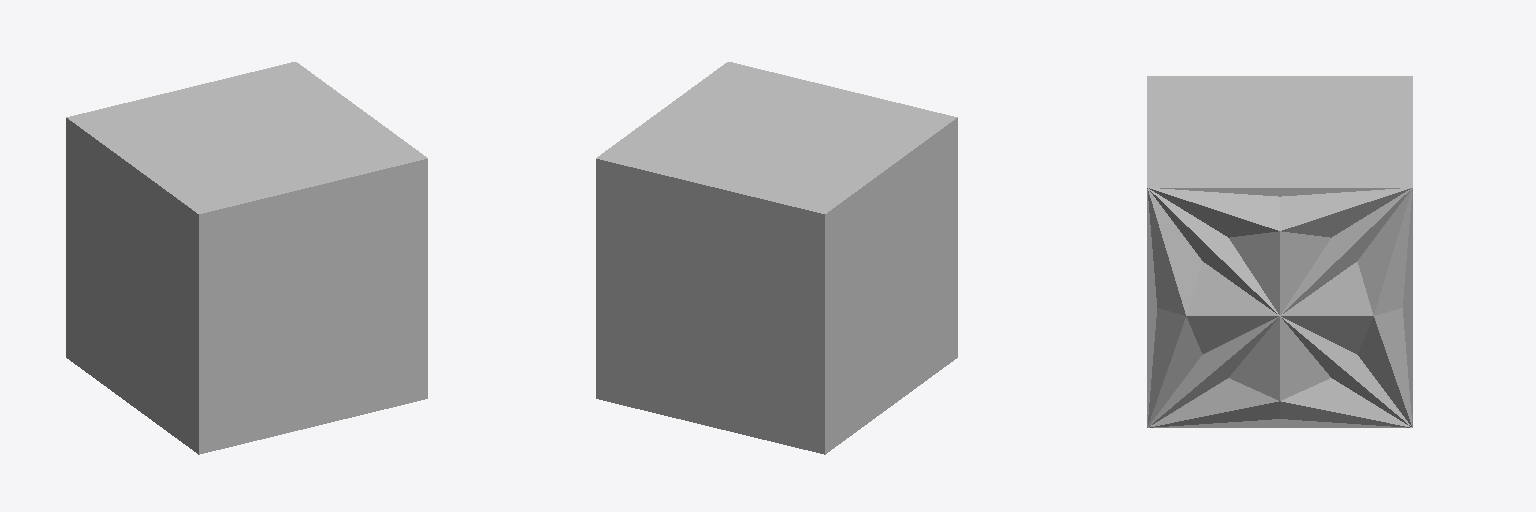
Rendered from testCubeMoreDetailOneSide.obj.
The picture shows the model from 3 angles: view 1: azimuth 30°, elevation 25°; view 2: azimuth 150°, elevation 25°; view 3: azimuth 270°, elevation 25°; orthographic projection.
Visible parts, largest first — view 1: Cube; view 2: Cube; view 3: Cube.
Boxes of the visible parts, box(x1,y1,x2,y2) form: Cube: box(66, 62, 427, 454); Cube: box(596, 62, 957, 454); Cube: box(1147, 76, 1412, 427).
Size of the model in its own units: 2.15 by 2 by 2.